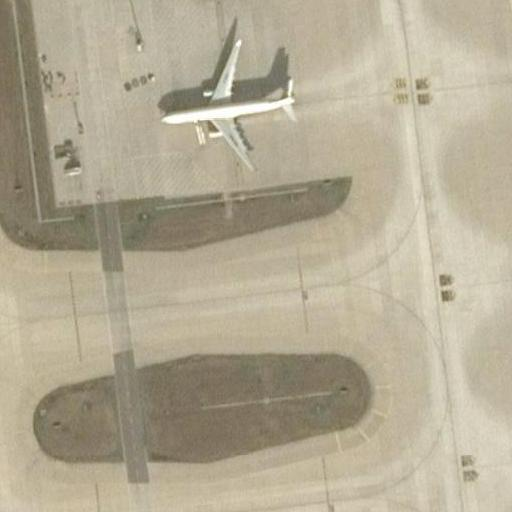Aircraft: (154, 33, 292, 174)
